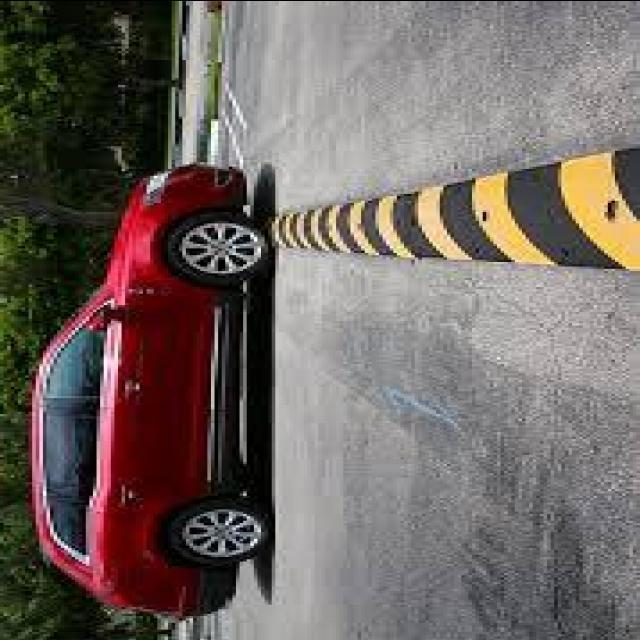speedbreaker: (261, 136, 640, 283)
